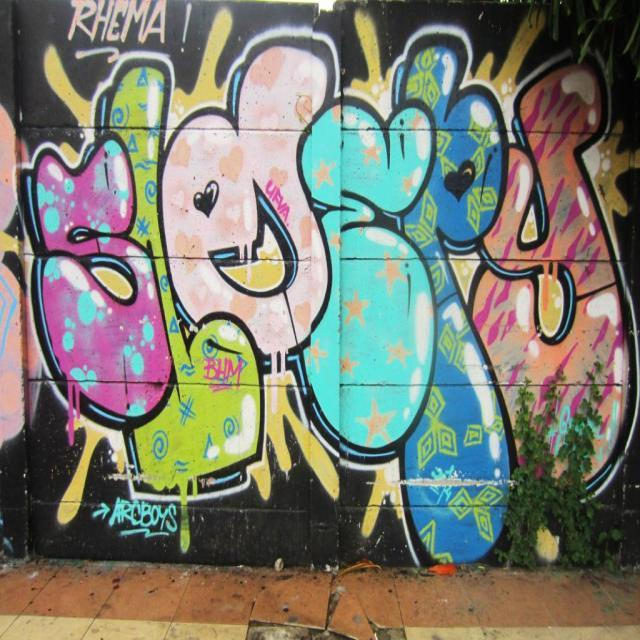-: (0, 8, 640, 570), (67, 0, 166, 56), (94, 498, 178, 542)
